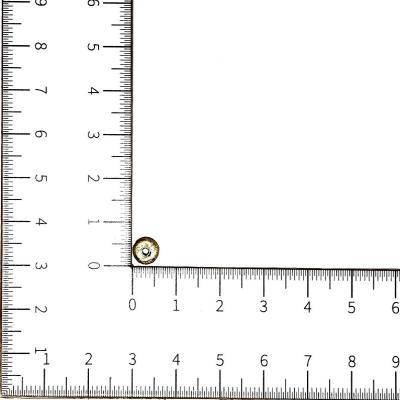archeology: (132, 237, 160, 266)
